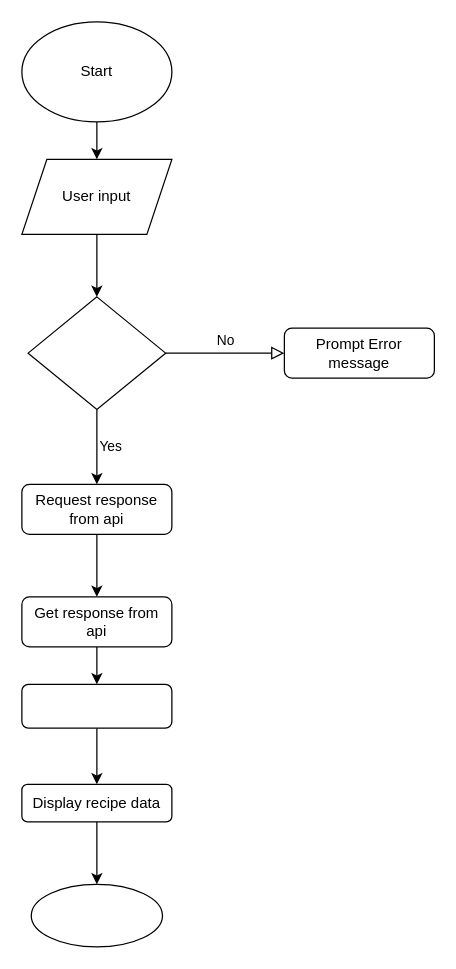
The diagram is 456 pixels wide and 969 high, and some of its shapes have lost their labels. Here are the shapes that lost their labels. From the top down, the box of each, then its label:
(27, 296, 166, 409): Validate input data
(21, 683, 172, 728): Parse recipe data
(30, 883, 162, 947): End
